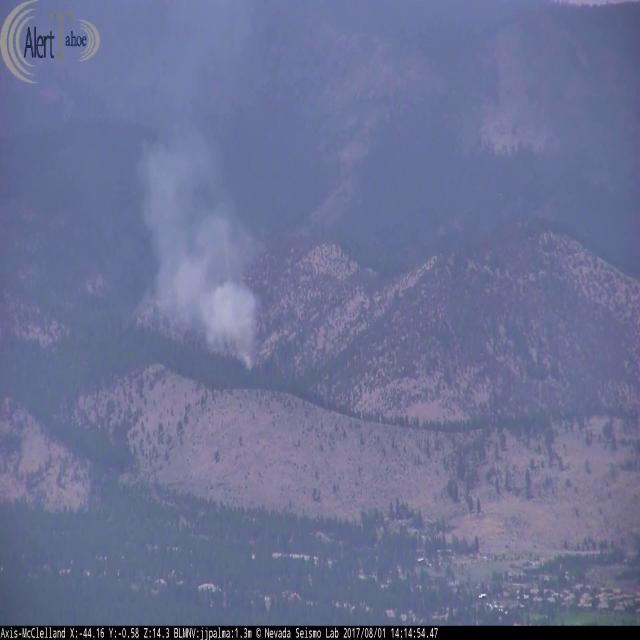smoke: (135, 98, 268, 378)
